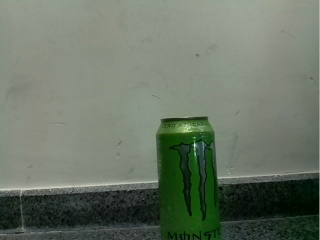botella plastico: (156, 116, 221, 240)
